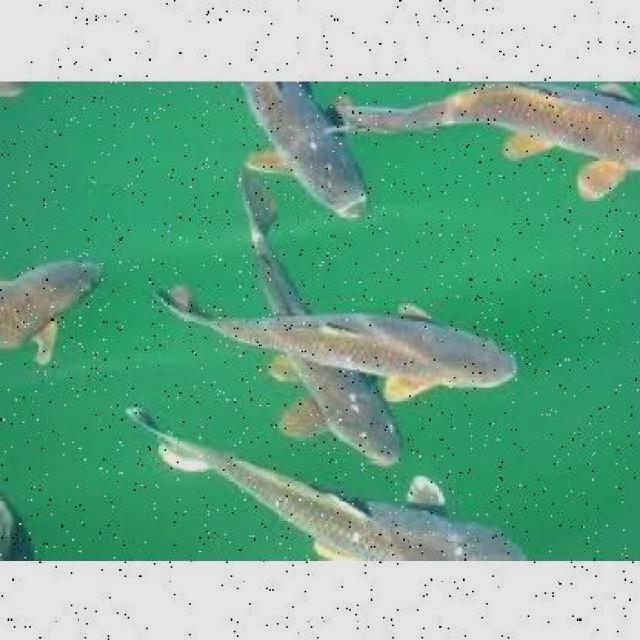ikan-mas: (230, 170, 410, 467), (131, 438, 531, 558), (155, 282, 530, 396), (2, 240, 112, 363)
